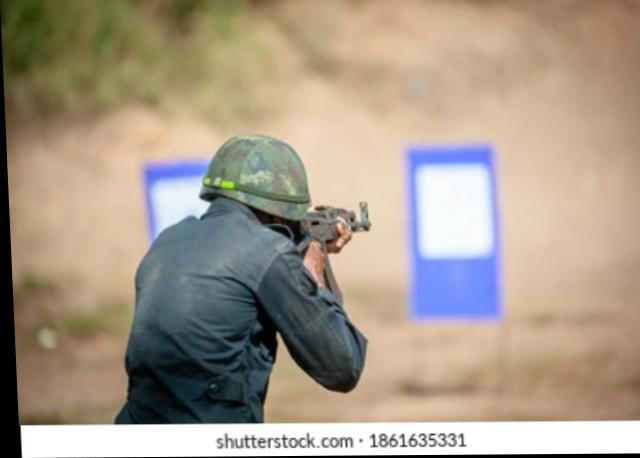other: (121, 148, 390, 437)
